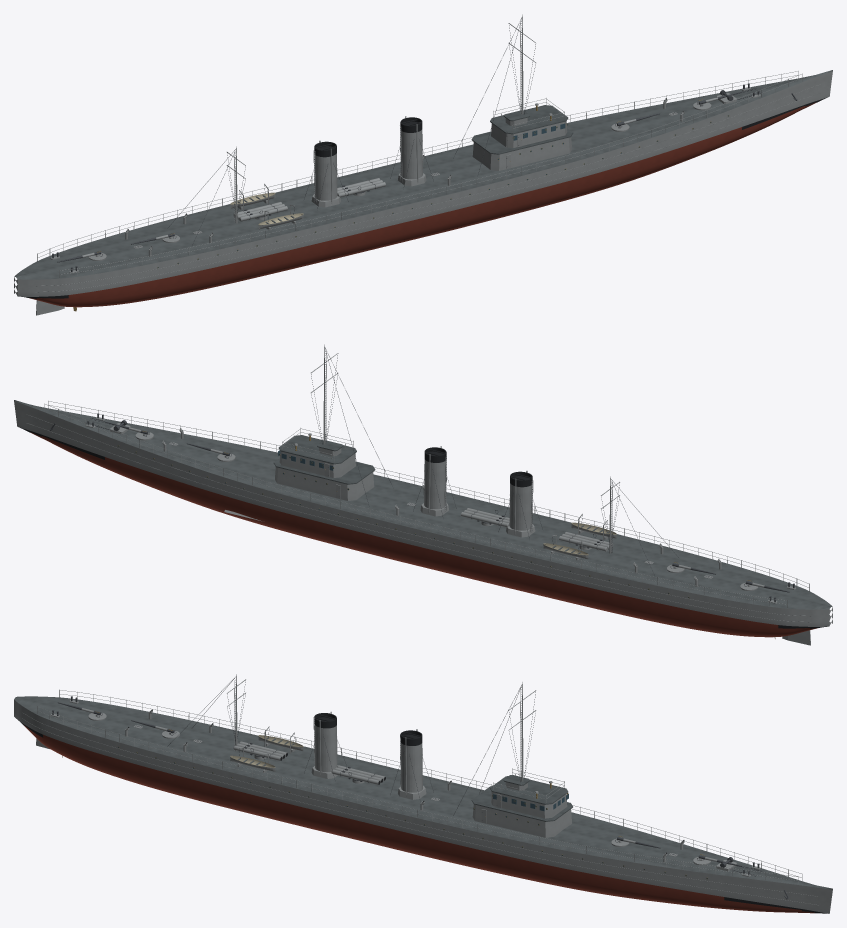
Rendered from fallback-dd.glb.
The picture shows the model from 3 angles, top to bottom: view 1: azimuth 30°, elevation 25°; view 2: azimuth 150°, elevation 25°; view 3: azimuth 330°, elevation 25°; orthographic projection.
Visible parts, largest first — view 1: Original DD custom-design concept; view 2: Original DD custom-design concept; view 3: Original DD custom-design concept.
Part boxes in pixels (left/top/right/bottom): Original DD custom-design concept: left=14, top=14, right=832, bottom=315; Original DD custom-design concept: left=14, top=344, right=832, bottom=645; Original DD custom-design concept: left=14, top=674, right=832, bottom=913.
Bounding box in the file's own units: 110 × 23.73 × 10.69.
9 materials, 8 textured.
